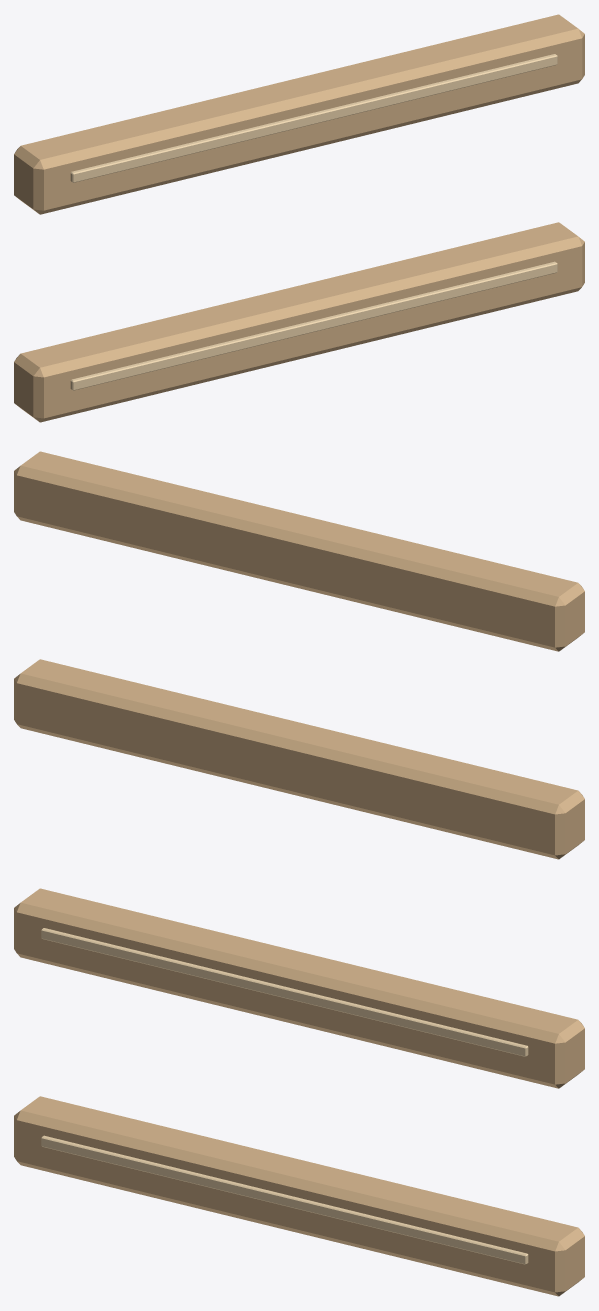
Rendered from fence_rail.fbx.
3 renders of one model, top to bottom at view 1: azimuth 30°, elevation 25°; view 2: azimuth 150°, elevation 25°; view 3: azimuth 330°, elevation 25°, orthographic.
Visible parts, largest first — view 1: fence_rail_mesh; view 2: fence_rail_mesh; view 3: fence_rail_mesh.
Part boxes in pixels (left/top/right/bottom): fence_rail_mesh: left=14, top=14, right=584, bottom=422; fence_rail_mesh: left=14, top=451, right=584, bottom=859; fence_rail_mesh: left=14, top=888, right=584, bottom=1296.
Size of the model in its own units: 1 by 0.455 by 0.093.
